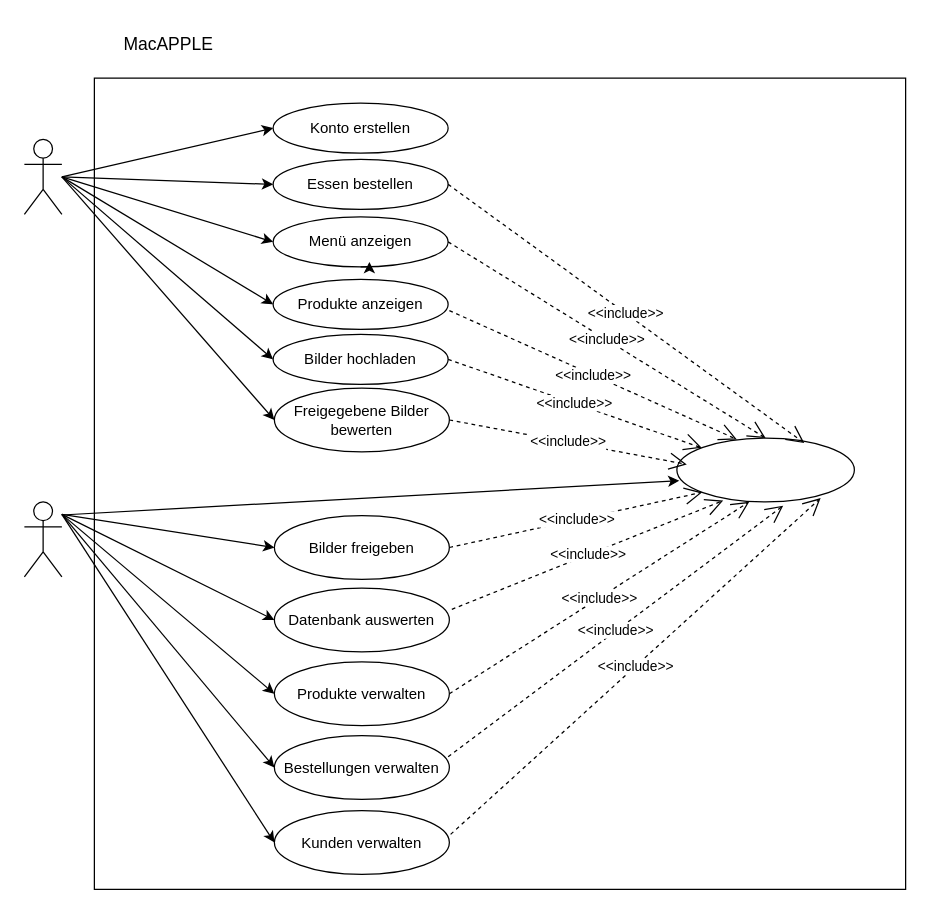
Some shapes in this 928 by 911 pixel diagram are drawn without their labels. Here are the shapes that lost their labels. From the top down, the centre of each, then its label:
At [42,176]: "Kunde".
At [765,469]: "Anmelden".
At [42,539]: "Admin".
